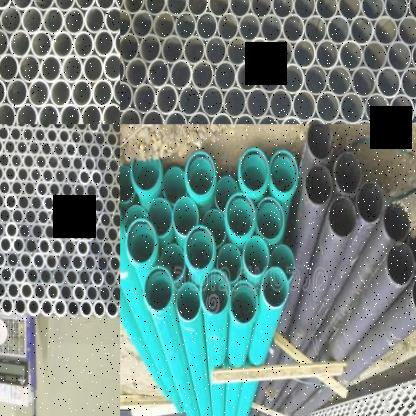pipe: (126, 219, 156, 264), (200, 270, 230, 314), (185, 226, 215, 270), (226, 193, 256, 237), (185, 152, 215, 196), (239, 148, 269, 191), (144, 267, 173, 311), (269, 150, 298, 194), (255, 197, 284, 240), (230, 281, 258, 324), (304, 165, 333, 206), (386, 245, 415, 285), (383, 201, 411, 242), (329, 197, 357, 238), (356, 182, 384, 223), (334, 152, 362, 193), (262, 267, 288, 308), (173, 196, 199, 237), (131, 158, 161, 191), (217, 243, 242, 282), (244, 237, 269, 276), (307, 124, 334, 160), (160, 244, 185, 282), (148, 198, 172, 237), (162, 167, 186, 206), (176, 283, 200, 321), (214, 176, 238, 214), (201, 210, 226, 246), (270, 245, 294, 281), (362, 40, 388, 72), (387, 40, 412, 73), (351, 66, 376, 99), (364, 93, 390, 124), (376, 67, 401, 99), (328, 65, 352, 98), (316, 91, 340, 124), (268, 89, 292, 121), (340, 92, 364, 124), (236, 61, 260, 93), (292, 90, 316, 122), (246, 88, 270, 120), (178, 85, 202, 117), (390, 94, 415, 124), (304, 65, 328, 96), (258, 63, 282, 94), (327, 15, 351, 46), (339, 40, 363, 71), (201, 86, 224, 118), (315, 40, 339, 70), (350, 16, 374, 46), (374, 16, 398, 46), (248, 37, 271, 68), (224, 87, 247, 118), (169, 59, 192, 90), (156, 84, 178, 116), (134, 83, 156, 115), (152, 11, 176, 40), (282, 14, 305, 44), (304, 15, 327, 45), (260, 14, 283, 44), (293, 39, 316, 69), (226, 37, 249, 67), (124, 205, 147, 235), (282, 64, 304, 95), (126, 57, 148, 88), (271, 39, 294, 68), (147, 59, 170, 88), (9, 29, 31, 59), (6, 78, 28, 108), (239, 13, 261, 43), (214, 61, 236, 91), (192, 60, 214, 90), (162, 35, 184, 65), (205, 36, 227, 66), (196, 12, 218, 42), (132, 9, 154, 39), (0, 5, 22, 34), (28, 79, 50, 108), (140, 34, 162, 63), (217, 13, 239, 42), (184, 36, 206, 65), (175, 12, 197, 41), (50, 79, 71, 109), (40, 55, 62, 83), (84, 6, 106, 34), (19, 54, 40, 83), (22, 6, 43, 35), (92, 79, 113, 108), (72, 79, 92, 109), (83, 55, 104, 83), (52, 31, 73, 59), (73, 31, 94, 59), (94, 30, 115, 58), (43, 7, 64, 35), (398, 15, 416, 47), (120, 33, 139, 63), (62, 55, 82, 83), (32, 31, 52, 59), (64, 7, 84, 35), (0, 53, 18, 83), (120, 166, 134, 203), (400, 68, 416, 100), (384, 0, 408, 21), (103, 52, 120, 81), (361, 0, 384, 21), (338, 0, 362, 20), (315, 0, 338, 20), (81, 103, 102, 124), (17, 103, 38, 124), (38, 104, 60, 124), (293, 0, 316, 19), (104, 7, 120, 34), (250, 0, 272, 19), (272, 0, 294, 19), (60, 104, 80, 124), (101, 103, 120, 124), (120, 82, 133, 112), (208, 0, 229, 18), (230, 0, 250, 18), (187, 0, 208, 17), (120, 108, 142, 124), (166, 0, 188, 16), (0, 103, 16, 124), (120, 9, 132, 37), (144, 0, 166, 15), (142, 110, 165, 124), (164, 111, 188, 124), (124, 0, 145, 14), (409, 225, 416, 266), (98, 284, 112, 304), (33, 282, 47, 302), (20, 282, 34, 302), (6, 281, 20, 301), (78, 268, 92, 288), (26, 266, 40, 286), (0, 296, 14, 316), (187, 112, 210, 124), (210, 112, 233, 124), (0, 28, 9, 58), (46, 283, 60, 302), (56, 223, 70, 242), (66, 299, 80, 318), (40, 298, 54, 317), (27, 298, 41, 317), (91, 268, 104, 288), (53, 298, 66, 318), (52, 268, 66, 286), (44, 253, 58, 271), (32, 252, 46, 270), (6, 251, 20, 269), (76, 240, 90, 258), (94, 226, 108, 244), (74, 210, 88, 228), (24, 208, 38, 226), (52, 140, 66, 158), (233, 114, 258, 124), (86, 284, 99, 303), (73, 284, 86, 303), (13, 266, 26, 285), (38, 237, 51, 256), (62, 209, 75, 228), (80, 299, 93, 318), (14, 297, 27, 316), (10, 180, 24, 197), (16, 166, 30, 183), (0, 266, 13, 284), (96, 254, 109, 272), (71, 254, 84, 272), (58, 253, 71, 271), (20, 252, 33, 270), (89, 240, 102, 258), (51, 238, 64, 256), (12, 236, 25, 254), (82, 224, 95, 242), (69, 224, 82, 242), (44, 222, 57, 240), (31, 222, 44, 240), (18, 222, 31, 240), (87, 210, 100, 228), (37, 208, 50, 226), (42, 194, 55, 212), (17, 194, 30, 212), (10, 152, 23, 170), (40, 140, 53, 158), (93, 300, 106, 318), (66, 268, 78, 287), (40, 267, 52, 286), (64, 238, 76, 257), (0, 235, 12, 254), (4, 194, 18, 210), (102, 170, 116, 186), (90, 170, 104, 186), (61, 182, 74, 199), (36, 181, 49, 198), (23, 180, 36, 197), (66, 168, 79, 185), (47, 154, 60, 171), (28, 140, 41, 157), (54, 0, 74, 11), (34, 0, 54, 11), (95, 0, 115, 11), (75, 0, 95, 11), (411, 272, 416, 316), (256, 115, 280, 124), (60, 284, 72, 302), (104, 270, 116, 288), (108, 254, 120, 272), (84, 254, 96, 272), (102, 240, 114, 258), (26, 237, 38, 255), (106, 226, 118, 244), (6, 221, 18, 239), (100, 211, 112, 229), (50, 209, 62, 227), (30, 194, 42, 212), (79, 168, 91, 186), (30, 166, 42, 184), (58, 128, 70, 146), (106, 300, 118, 318), (12, 0, 33, 10), (55, 196, 68, 212), (54, 168, 67, 184), (4, 166, 17, 182), (16, 140, 29, 156), (104, 198, 116, 215), (92, 197, 104, 214), (80, 197, 92, 214), (68, 196, 80, 213), (86, 183, 98, 200), (74, 182, 86, 199), (42, 167, 54, 184), (108, 157, 120, 174), (96, 156, 108, 173), (72, 155, 84, 172), (60, 154, 72, 171), (36, 153, 48, 170), (23, 153, 35, 170), (89, 143, 101, 160), (4, 139, 16, 156), (94, 130, 106, 147), (70, 129, 82, 146), (46, 128, 58, 145), (22, 127, 34, 144), (34, 127, 46, 144), (10, 126, 22, 143), (113, 77, 120, 106), (0, 206, 11, 224), (280, 116, 304, 124), (12, 208, 24, 224), (98, 184, 110, 200), (49, 182, 61, 198), (84, 156, 96, 172), (101, 144, 113, 160), (77, 142, 89, 158), (65, 142, 77, 158), (106, 132, 118, 148), (82, 130, 94, 146), (109, 184, 120, 201), (0, 78, 6, 107), (0, 179, 10, 196), (114, 29, 120, 57), (408, 0, 416, 21), (411, 40, 416, 73), (111, 285, 120, 303), (0, 152, 10, 168), (111, 212, 120, 229), (120, 56, 125, 86), (0, 126, 9, 142), (112, 146, 120, 162), (113, 240, 120, 258), (99, 124, 111, 134), (0, 281, 6, 300), (0, 0, 12, 9), (0, 250, 6, 268), (87, 124, 99, 133), (114, 171, 120, 188), (76, 124, 88, 132), (63, 124, 76, 131), (0, 220, 5, 238), (111, 124, 120, 134), (116, 270, 120, 288), (116, 197, 120, 215), (52, 124, 64, 130), (40, 124, 52, 130), (0, 193, 4, 210), (0, 165, 4, 182), (0, 138, 4, 154), (28, 124, 40, 129), (15, 124, 27, 129), (3, 124, 15, 128)
